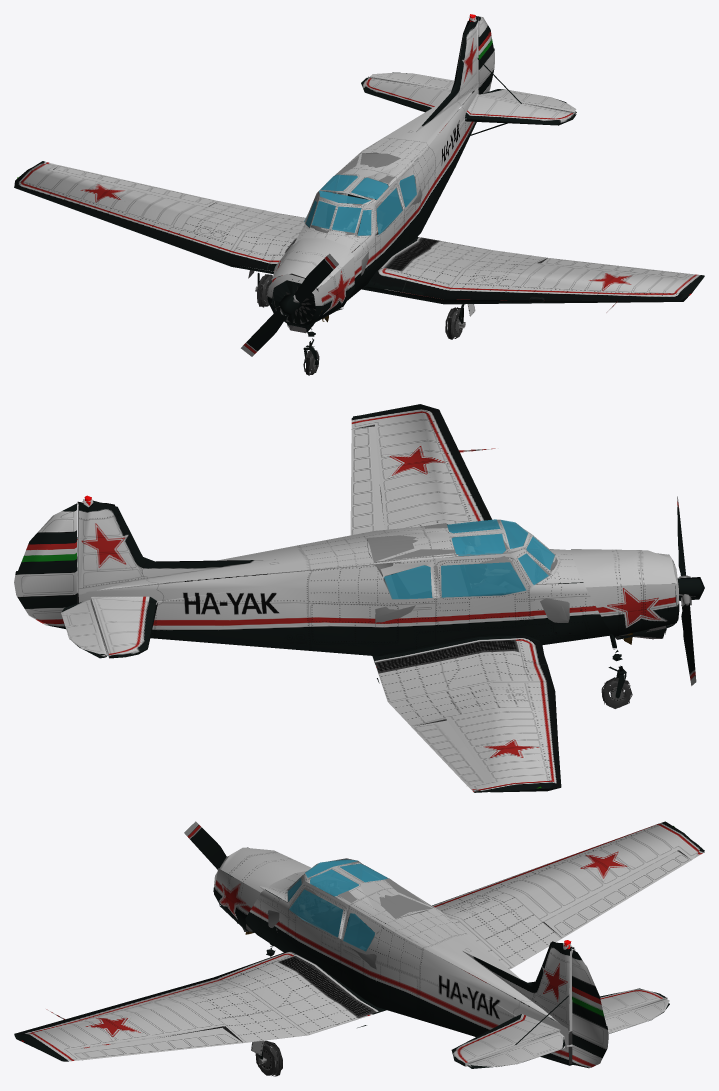
The model's file is yak-18.glb.
3 renders of one model, top to bottom at view 1: azimuth 30°, elevation 25°; view 2: azimuth 150°, elevation 25°; view 3: azimuth 270°, elevation 25°, orthographic. The views are drawn at different scales.
Visible parts, largest first — view 1: Line75-FACES.001; view 2: Line75-FACES.001; view 3: Line75-FACES.001.
Part boxes in pixels (x1,y1,x2,y2): Line75-FACES.001: (14,14,704,375); Line75-FACES.001: (14,404,704,792); Line75-FACES.001: (14,821,704,1076).
Bounding box in the file's own units: 8.57 × 3.28 × 9.4.
Materials: 35 (21 with a texture image).
